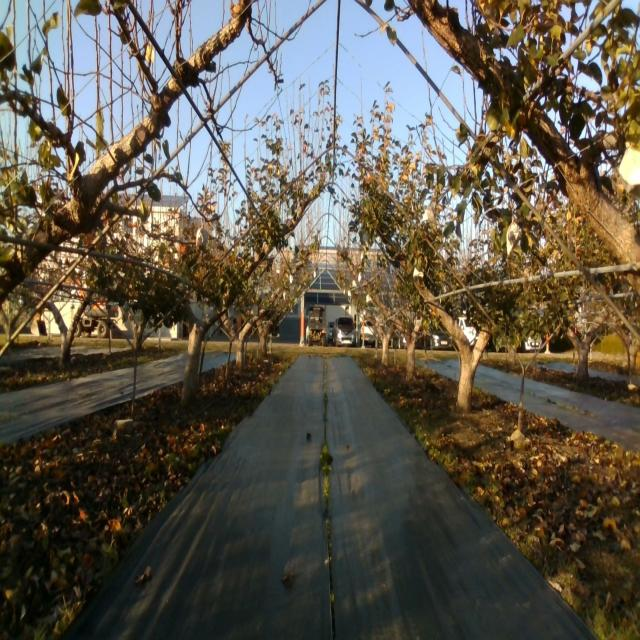pearbags: (619, 140, 640, 200), (505, 216, 521, 257), (196, 223, 209, 252), (426, 200, 438, 226)
